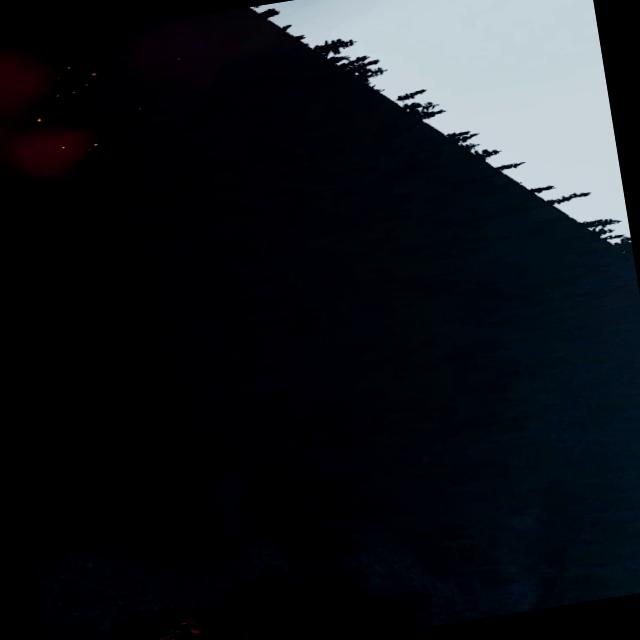smoke: (0, 4, 290, 203)
